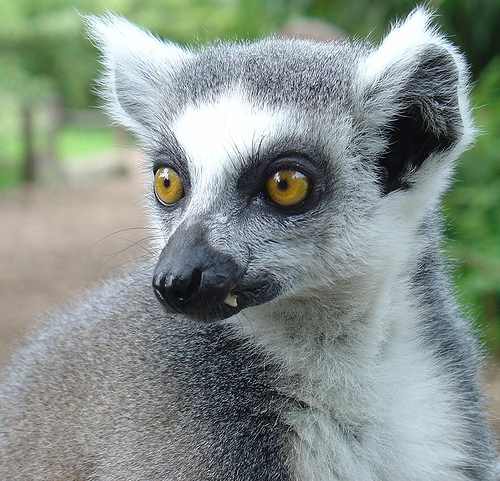cat: (0, 10, 498, 479)
